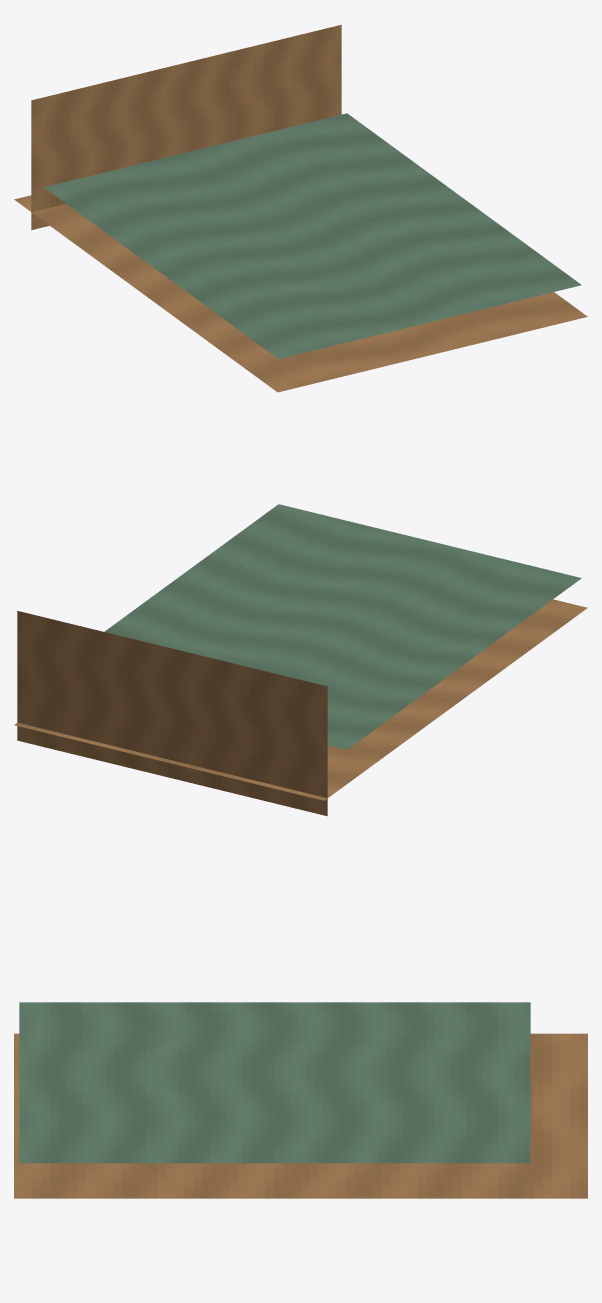
3 views of the same model, one above another, from view 1: azimuth 30°, elevation 25°; view 2: azimuth 150°, elevation 25°; view 3: azimuth 270°, elevation 25° (orthographic). The views are drawn at different scales.
Visible parts, largest first — view 1: Hagrids breites Hüttenbett; view 2: Hagrids breites Hüttenbett; view 3: Hagrids breites Hüttenbett.
Boxes of the visible parts, left/top/right/bottom form: Hagrids breites Hüttenbett: left=14, top=24, right=587, bottom=392; Hagrids breites Hüttenbett: left=14, top=504, right=587, bottom=816; Hagrids breites Hüttenbett: left=14, top=1002, right=587, bottom=1198.
Size of the model in its own units: 1.8 by 1.08 by 2.65.
2 materials, 2 textured.
